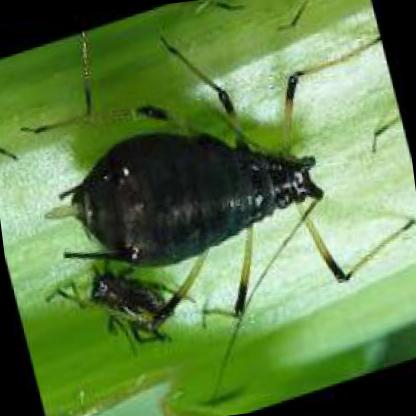uroleucon compositae: (49, 38, 329, 274)
